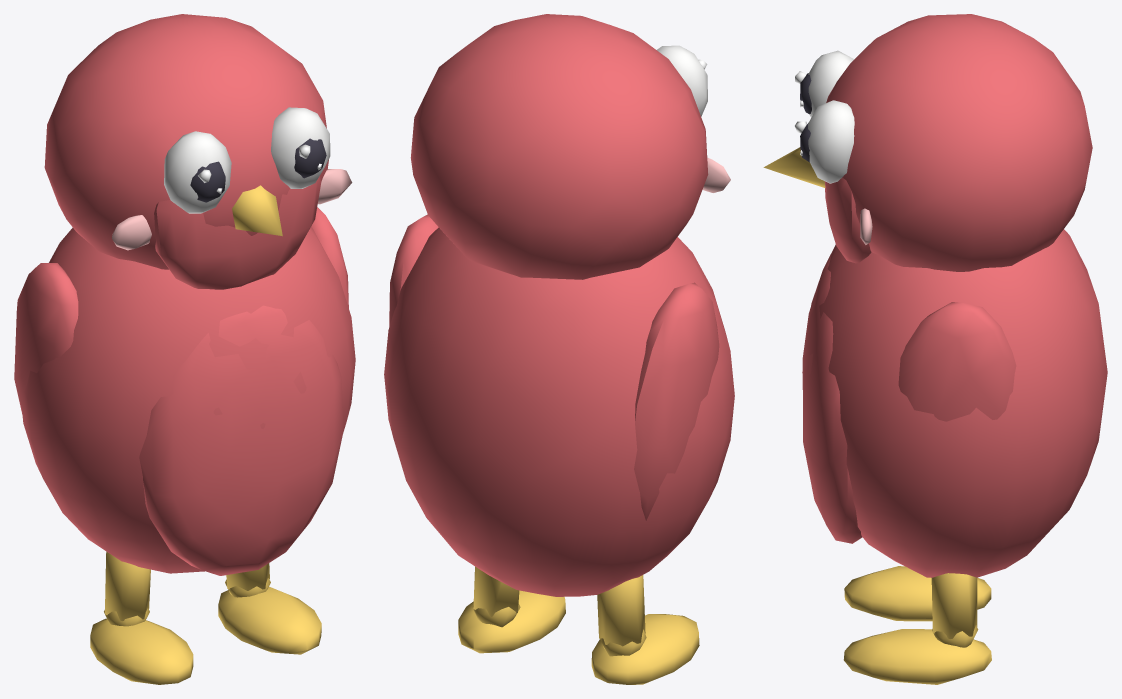
File: Penguin.fbx
3 renders of one model, left to right at view 1: azimuth 30°, elevation 25°; view 2: azimuth 150°, elevation 25°; view 3: azimuth 270°, elevation 25°, orthographic. The views are drawn at different scales.
Parts seen in each view (by area): view 1: EX_Penguin; view 2: EX_Penguin; view 3: EX_Penguin.
Boxes of the visible parts, bbox=[...] form: EX_Penguin: bbox=[14, 14, 355, 684]; EX_Penguin: bbox=[384, 14, 734, 684]; EX_Penguin: bbox=[763, 14, 1107, 684].
Bounding box in the file's own units: 113 × 223 × 113.
